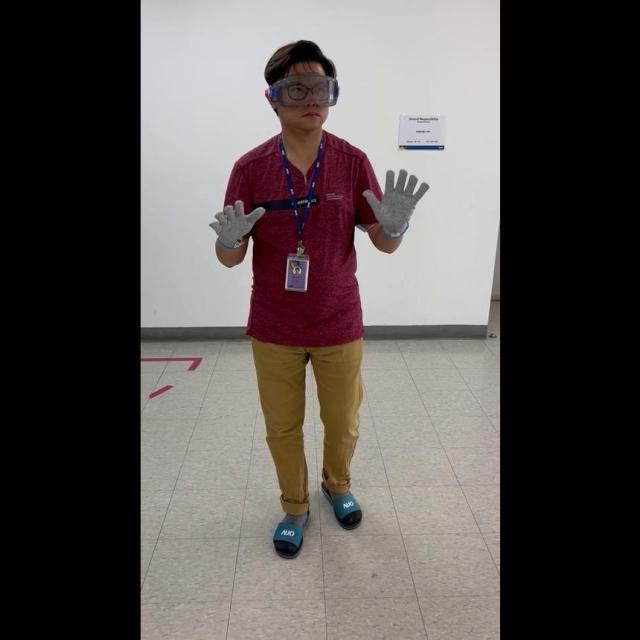gloved_hand: (359, 163, 428, 237), (208, 196, 264, 250)
